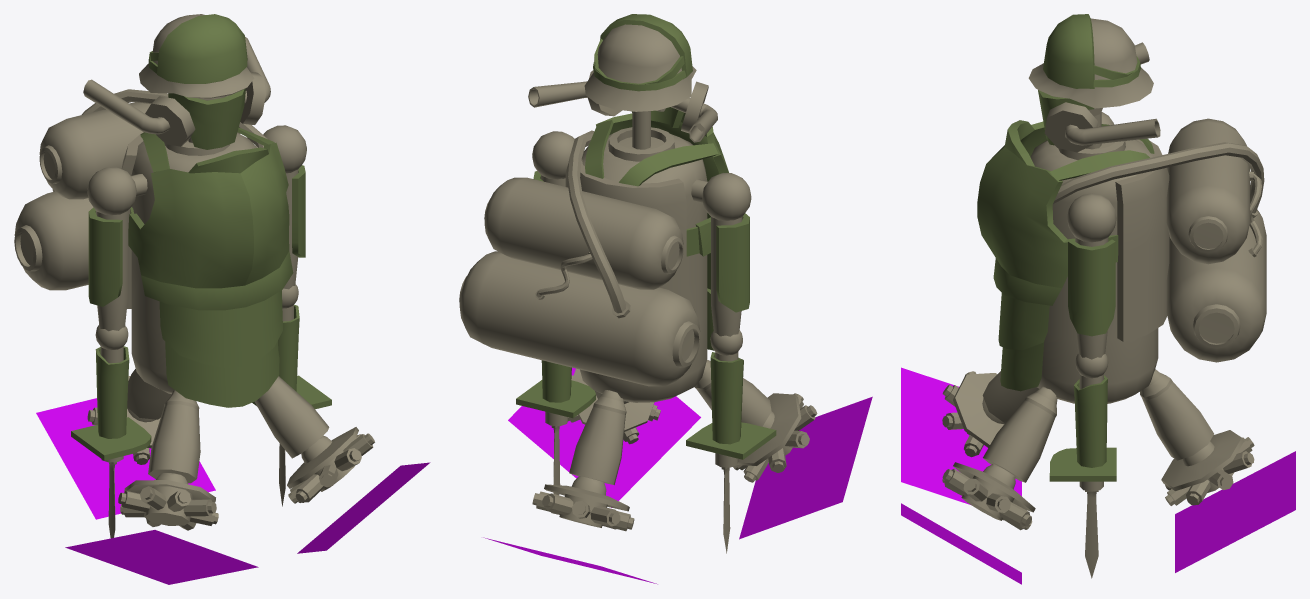
The model's file is Enemy02_Proxy.fbx.
The picture shows the model from 3 angles, left to right: view 1: azimuth 30°, elevation 25°; view 2: azimuth 150°, elevation 25°; view 3: azimuth 270°, elevation 25°; orthographic projection.
Visible parts, largest first — view 1: Armor_Chest01, Body, Armor_Chest02, Armor_Helmet, MagicCircle01_B, Armor_Chest03, Exhaust, Armor_ForeArm_R, MagicCircle02_B, Leg_RF, UpperArm_R, Leg_LF (+14 smaller); view 2: Body, MagicCircle02_RF, Head, MagicCircle01_LF, Armor_Chest01, Armor_ForeArm_R, Leg_B, UpperArm_R, MagicCircle01_RF, MagicCircle02_LF, Armor_UpperArm_R, Exhaust (+11 smaller); view 3: Body, Armor_Chest01, MagicCircle01_RF, MagicCircle02_B, Head, Armor_ForeArm_L, Armor_UpperArm_L, Armor_Helmet, Leg_LF, Leg_B, Exhaust, UpperArm_L (+12 smaller).
Part boxes in pixels (x1,y1,x2,y2): Armor_Chest01: (128, 127, 293, 310); Body: (14, 89, 267, 393); Armor_Chest02: (159, 290, 282, 368); Armor_Helmet: (148, 14, 247, 83); MagicCircle01_B: (36, 398, 211, 519); Armor_Chest03: (165, 341, 279, 407); Exhaust: (83, 37, 270, 146); Armor_ForeArm_R: (71, 346, 151, 460); MagicCircle02_B: (36, 398, 215, 518); Leg_RF: (148, 390, 200, 483); UpperArm_R: (87, 167, 136, 331); Leg_LF: (255, 376, 329, 458); Body: (459, 127, 707, 402); MagicCircle02_RF: (739, 396, 872, 539); Head: (584, 24, 696, 111); MagicCircle01_LF: (508, 367, 700, 500); Armor_Chest01: (585, 112, 728, 256); Armor_ForeArm_R: (686, 352, 776, 459); Leg_B: (569, 390, 626, 484); UpperArm_R: (702, 173, 751, 336); MagicCircle01_RF: (740, 399, 871, 538); MagicCircle02_LF: (509, 371, 697, 507); Armor_UpperArm_R: (716, 213, 749, 312); Exhaust: (528, 70, 717, 142); Body: (1030, 118, 1266, 403); Armor_Chest01: (977, 120, 1154, 305); MagicCircle01_RF: (901, 368, 1021, 504); MagicCircle02_B: (1175, 451, 1295, 572); Head: (1028, 18, 1153, 116); Armor_ForeArm_L: (1049, 375, 1116, 481); Armor_UpperArm_L: (1068, 239, 1115, 336); Armor_Helmet: (1043, 14, 1140, 88); Leg_LF: (983, 386, 1057, 482); Leg_B: (1140, 369, 1213, 460); Exhaust: (1044, 42, 1160, 152); UpperArm_L: (1067, 193, 1116, 359).
Size of the model in its own units: 1.17 by 1.77 by 1.19.
